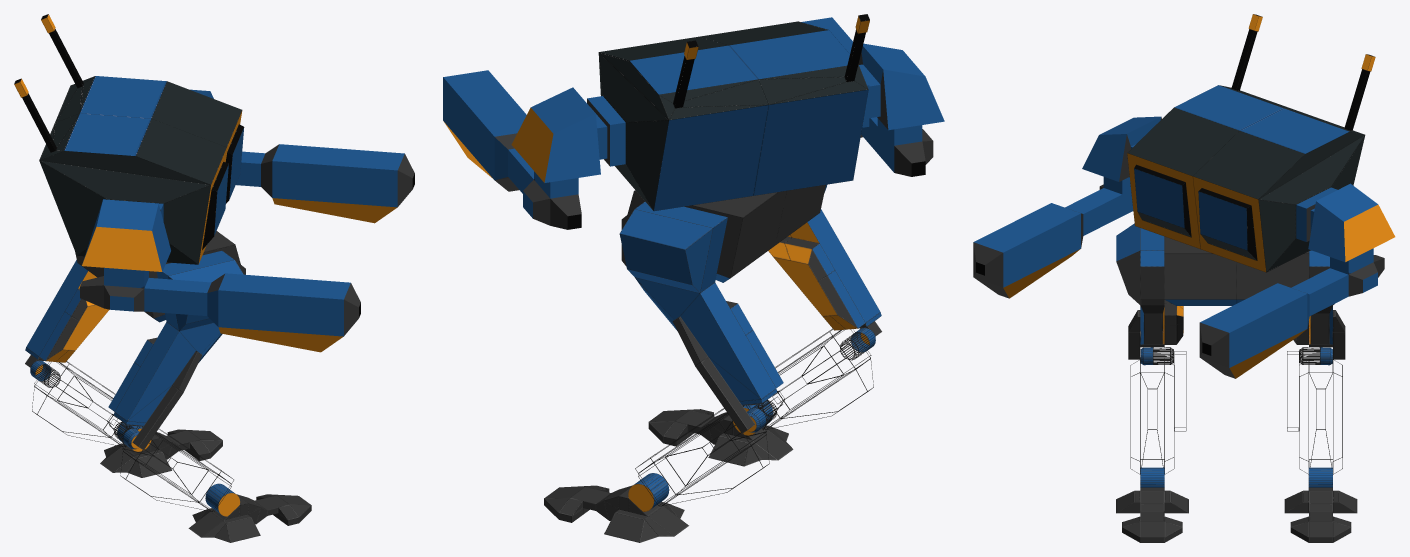
File: bot-new.fbx
3 views of the same model, side by side, from view 1: azimuth 30°, elevation 25°; view 2: azimuth 150°, elevation 25°; view 3: azimuth 270°, elevation 25° (orthographic). The views are drawn at different scales.
Parts seen in each view (by area): view 1: Upper Body, RightArm, RightArm.001, Upper Leg.002, Feet, Upper Leg.001, Lower Leg, Core; view 2: Upper Body, Upper Leg.001, RightArm.001, Feet, RightArm, Upper Leg.002, Core, Lower Leg; view 3: Upper Body, RightArm.001, RightArm, Feet, Core, Upper Leg.002, Lower Leg, Upper Leg.001.
Part boxes in pixels (x1,y1,x2,y2): Upper Body: (14,14,244,264); RightArm: (80,199,360,352); RightArm.001: (190,89,414,223); Upper Leg.002: (108,250,245,450); Feet: (100,422,311,542); Upper Leg.001: (25,260,109,381); Lower Leg: (32,361,233,511); Core: (75,231,240,322); Upper Body: (598,14,869,211); Upper Leg.001: (619,201,783,433); RightArm.001: (443,70,625,229); Feet: (544,401,793,542); RightArm: (801,17,944,176); Upper Leg.002: (768,184,881,352); Core: (627,185,825,282); Lower Leg: (635,328,873,506); Upper Body: (1127,14,1375,272); RightArm.001: (1199,183,1395,378); RightArm: (973,116,1161,298); Feet: (1116,467,1357,542); Core: (1164,236,1309,305); Upper Leg.002: (1116,223,1183,365); Lower Leg: (1130,347,1342,474); Upper Leg.001: (1293,250,1345,365).
Bounding box in the file's own units: 3416 × 3831 × 3480.
